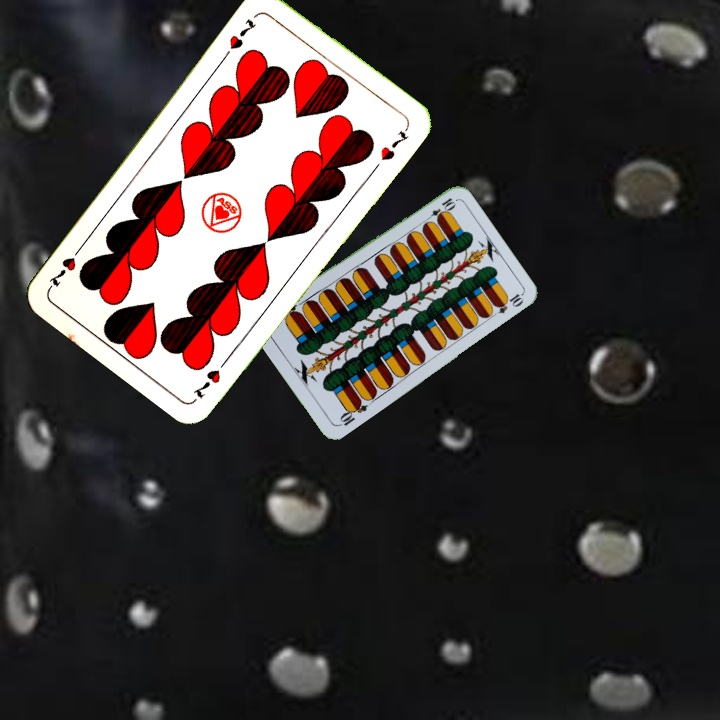E10: (334, 396, 370, 429), (421, 194, 458, 225)
H7: (189, 352, 232, 401), (225, 15, 259, 52)
